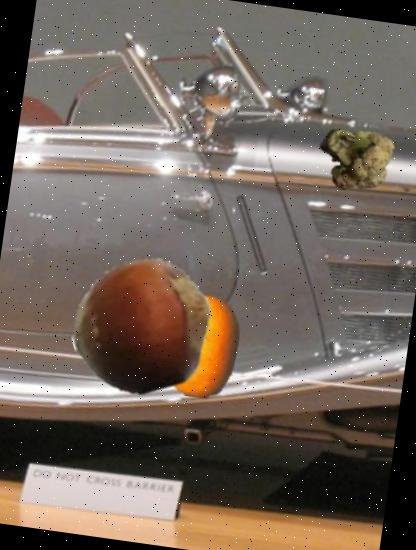Cauliflower: (312, 115, 398, 202)
Kumquats: (141, 286, 260, 404)
Nut: (62, 247, 224, 409)
